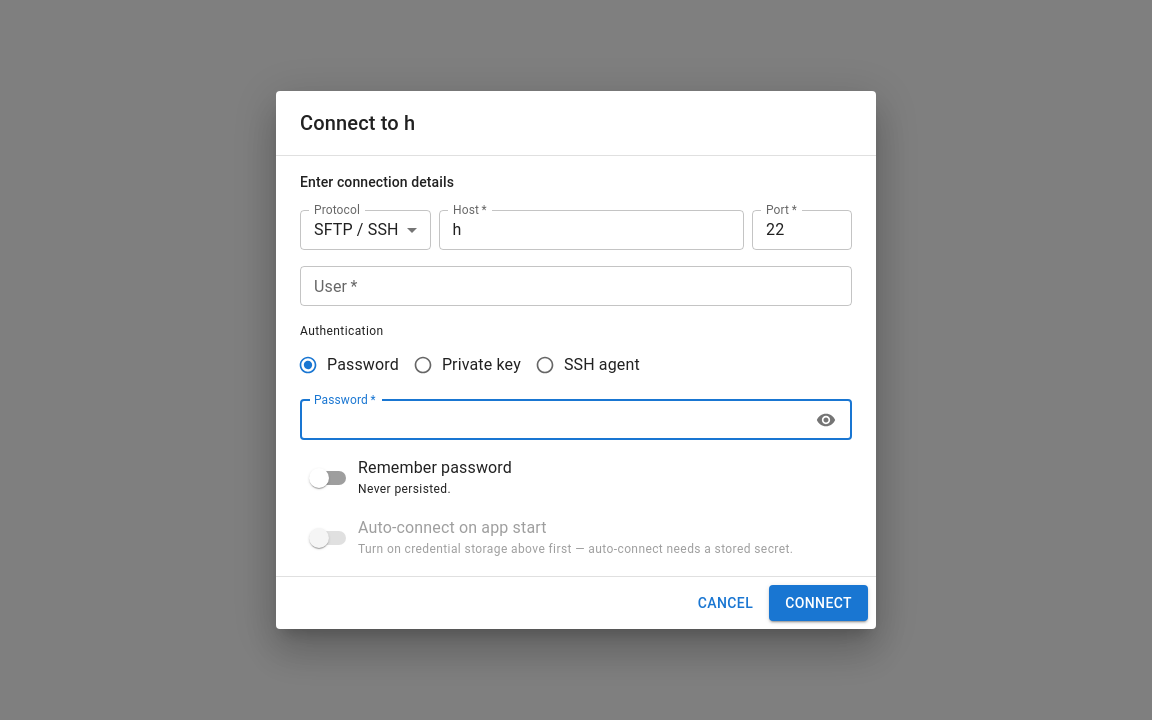
Test: RemoteConnectDialog › SFTP auth mode 'SSH agent' shows the agent-only hint
What coordinates should you click on to do the following:
click the radio button labelled "SSH agent"
I would click on:
 (587, 365)
Its box is [535,355,640,375].
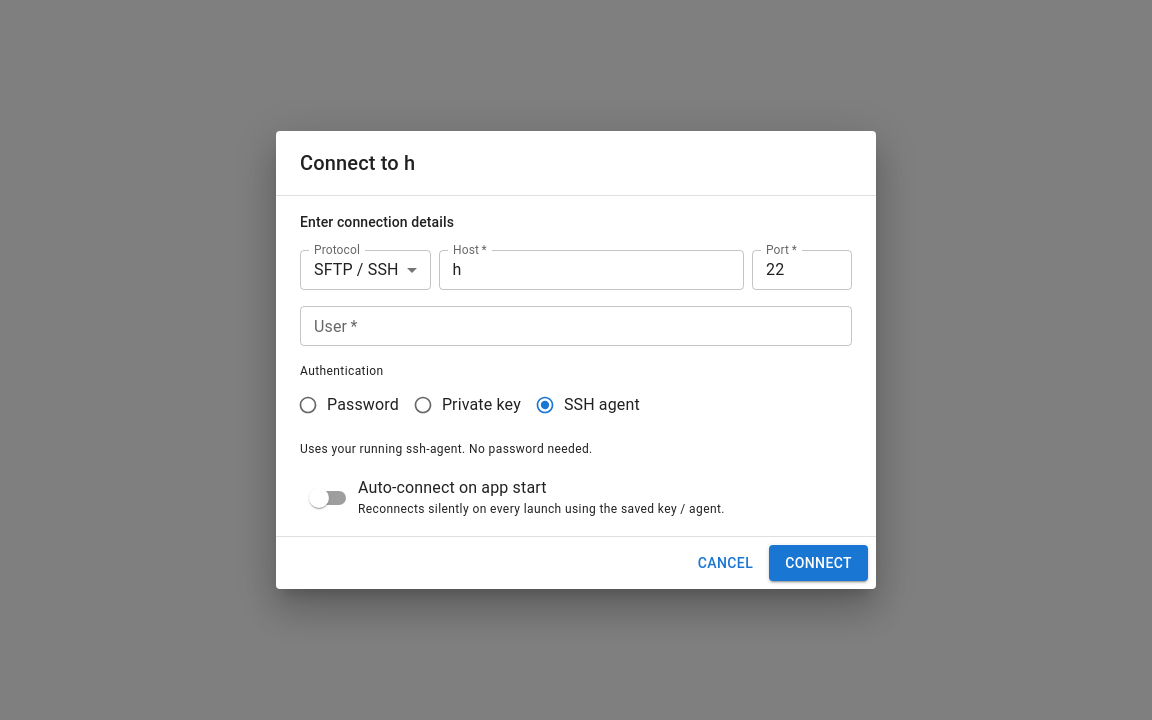
Expected: the text "Uses your running ssh-agent. No password needed." is shown, [300,442,593,456]
